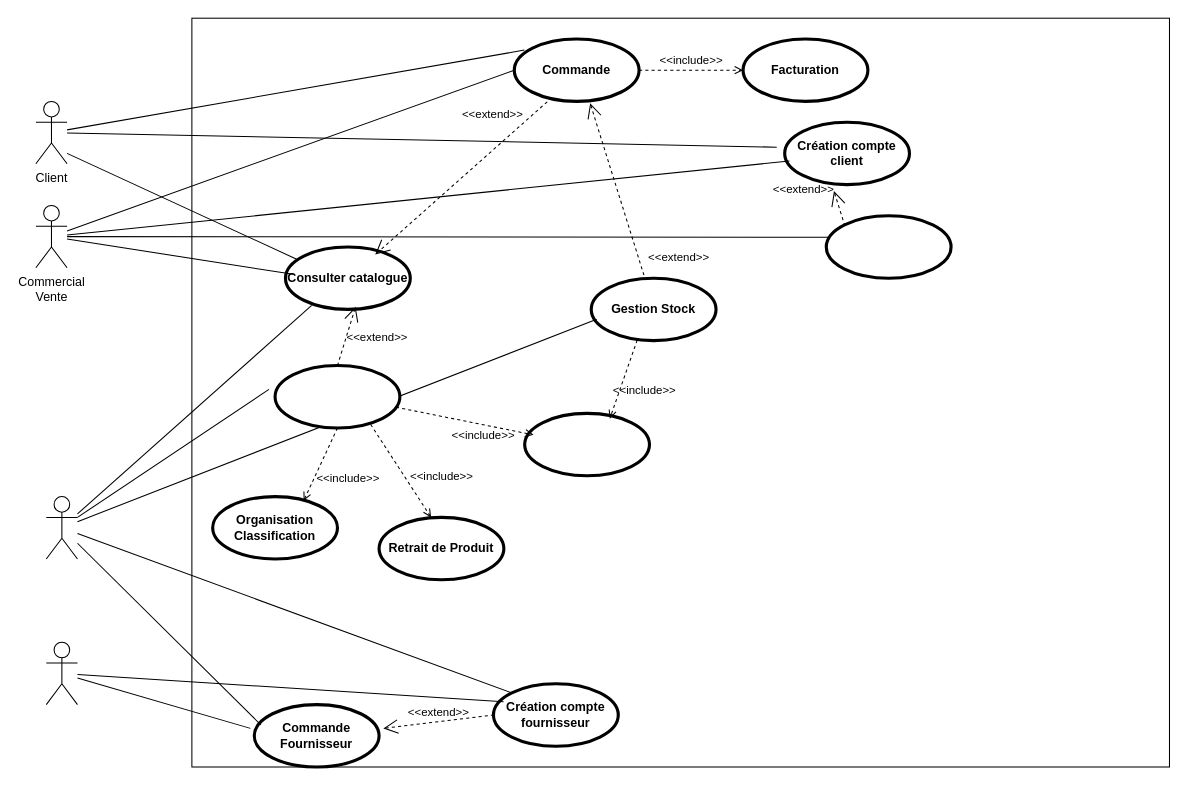
Image size: 1188x786. Some labels were removed from this diagram. Here are the shapes that lost their labels. From the top down, the centre of each, then its label:
At point 888,246: "Gestion des coéficients".
At point 337,396: "Gestion catalogue".
At point 587,444: "Ajout de Produit".
At point 61,527: "Commercial Achat".
At point 61,673: "Fournisseur".
